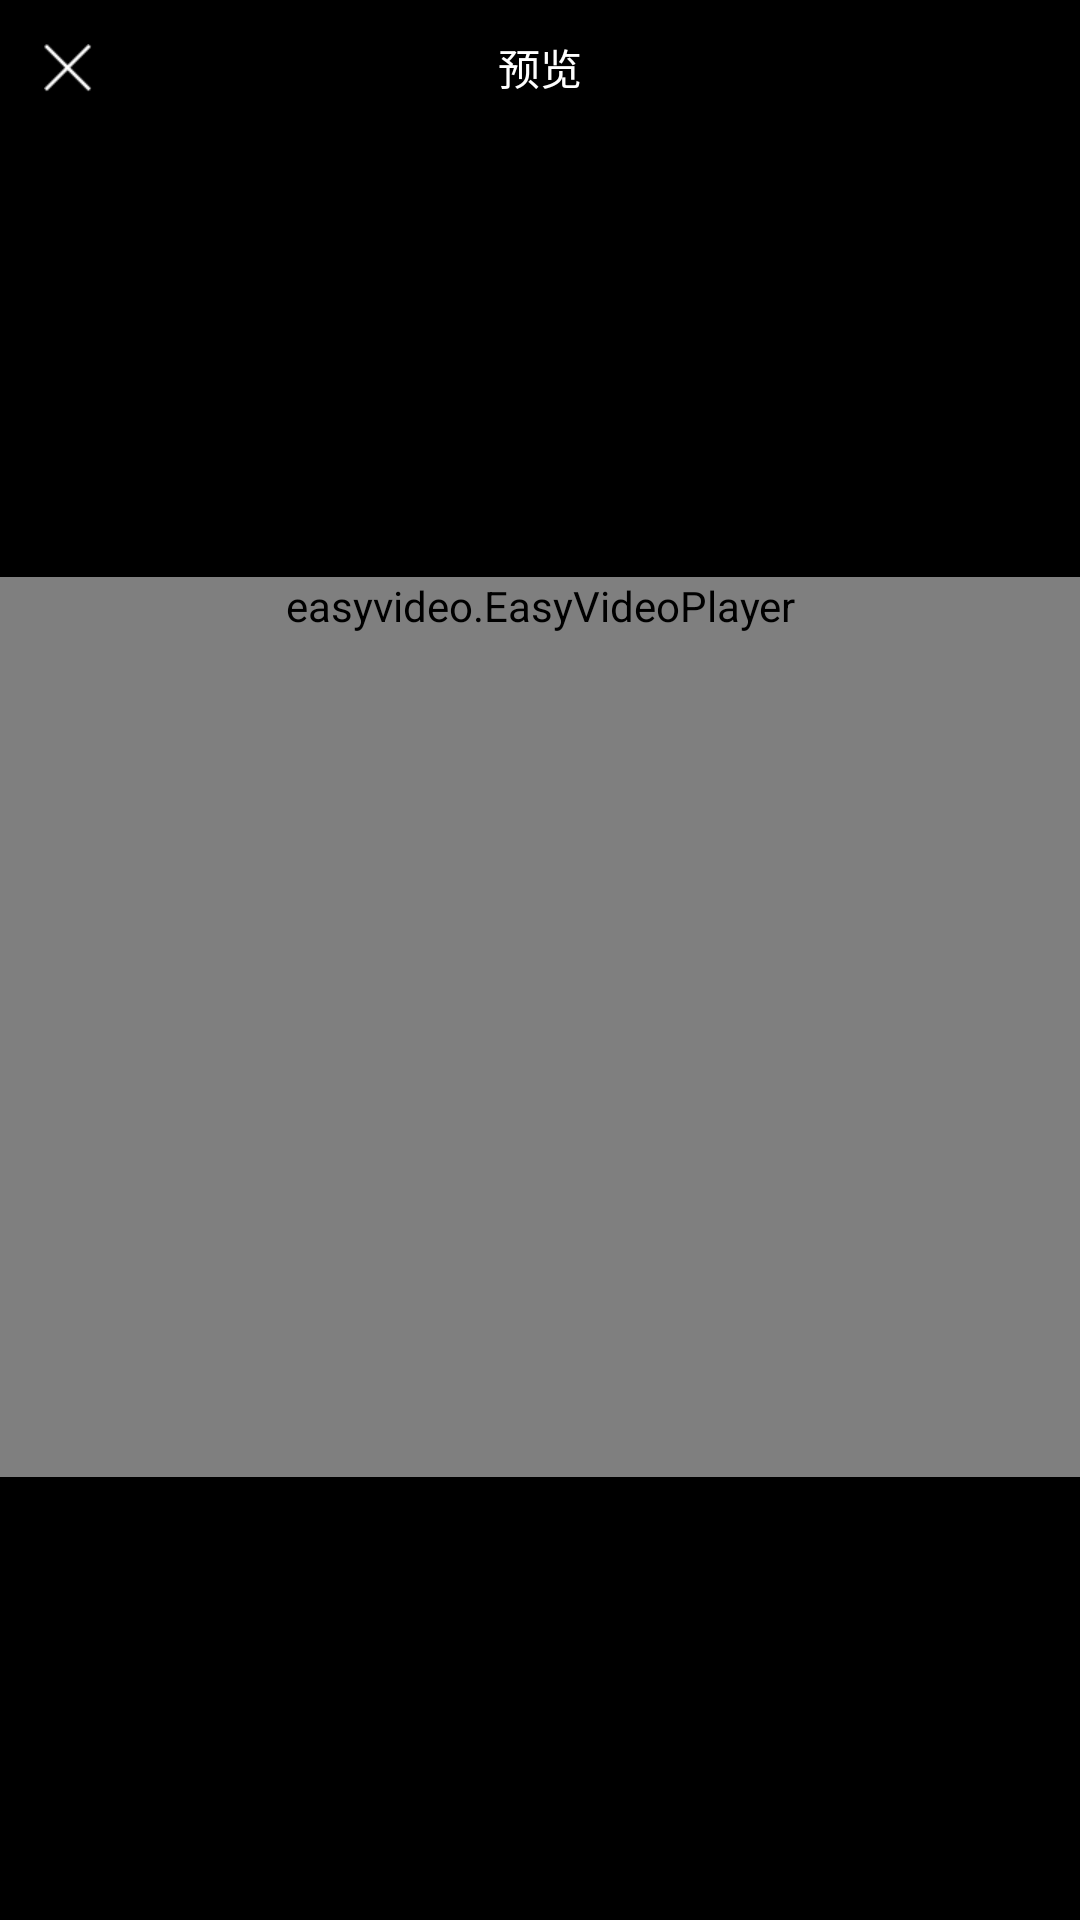

Icons on this 1080*1920 Android screen, each with the point to tap as [x,y]:
cross close: [67,67]
